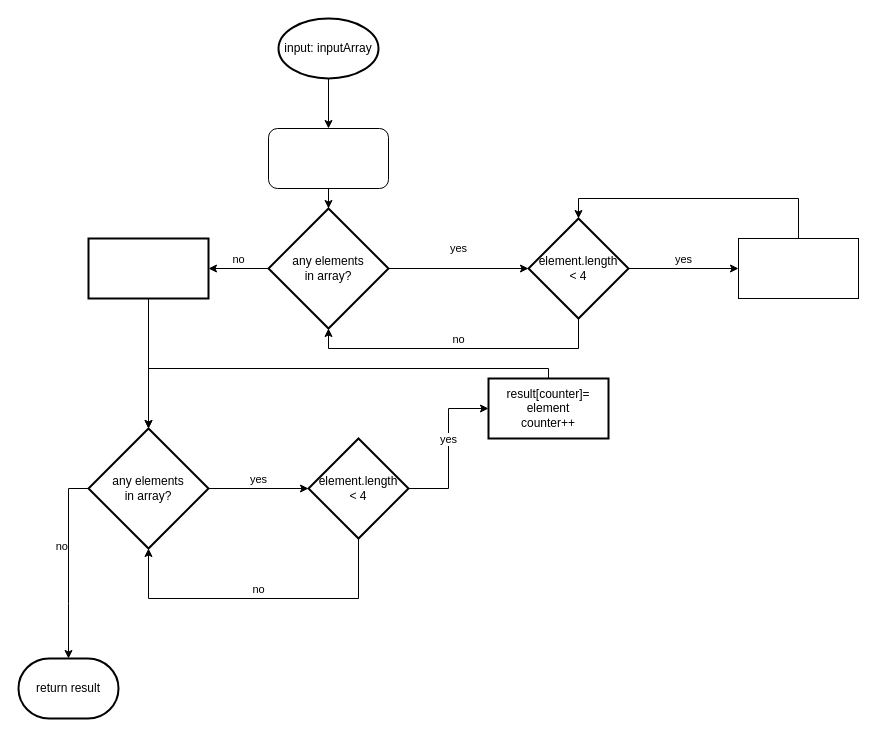
This 876x736 diagram has some shape labels left out. Here are the shapes that lost their labels. From the top down, the centre of each, then its label:
At [328,158]: "int stringNumber = 0".
At [148,268]: "string[] result int counter = 0".
At [798,268]: "stringnumber++".
